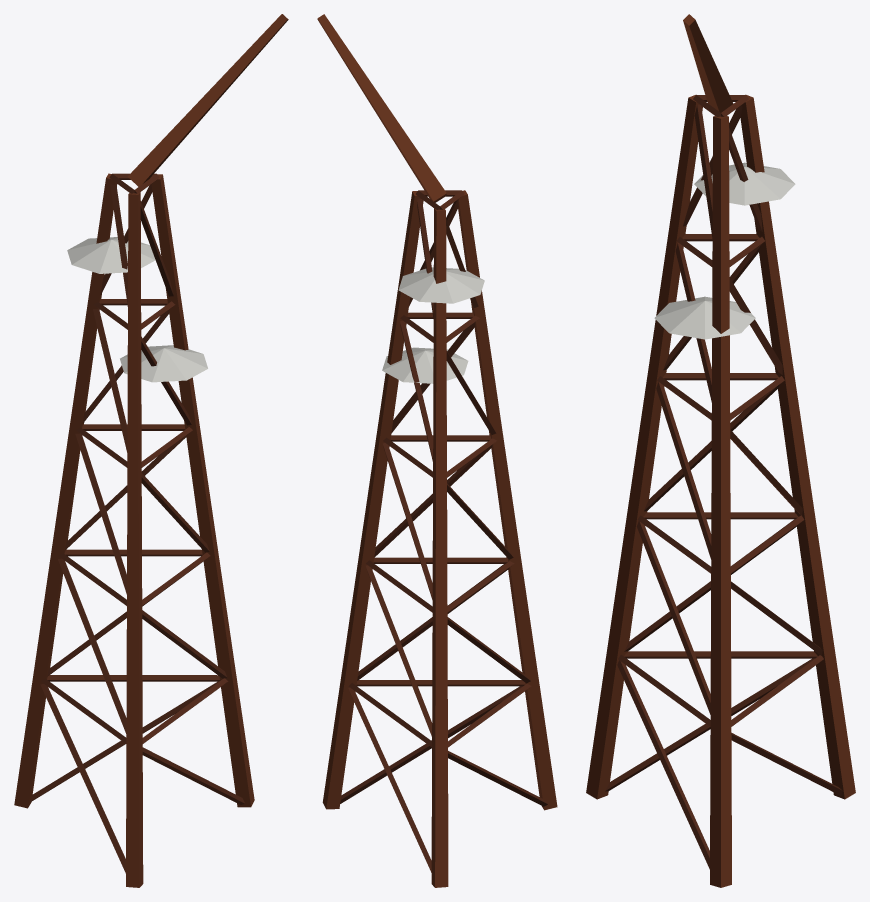
The model's file is pylon_broken.glb.
3 views of the same model, side by side, from view 1: azimuth 30°, elevation 25°; view 2: azimuth 150°, elevation 25°; view 3: azimuth 270°, elevation 25° (orthographic). The views are drawn at different scales.
Parts seen in each view (by area): view 1: pylon_broken2; view 2: pylon_broken2; view 3: pylon_broken2.
Part boxes in pixels (x1=…): pylon_broken2: x1=14, y1=14, x2=288, y2=887; pylon_broken2: x1=317, y1=14, x2=557, y2=887; pylon_broken2: x1=586, y1=14, x2=855, y2=887.
Size of the model in its own units: 1.65 by 6.15 by 1.7.
